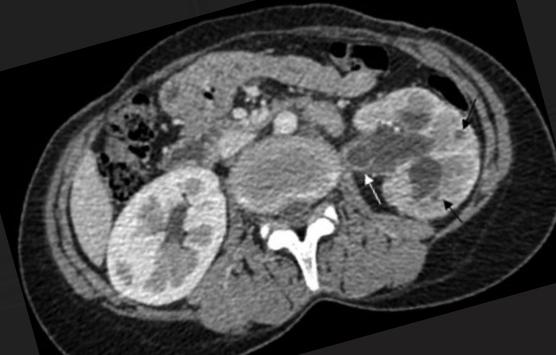anomaly: (344, 144, 377, 171)
